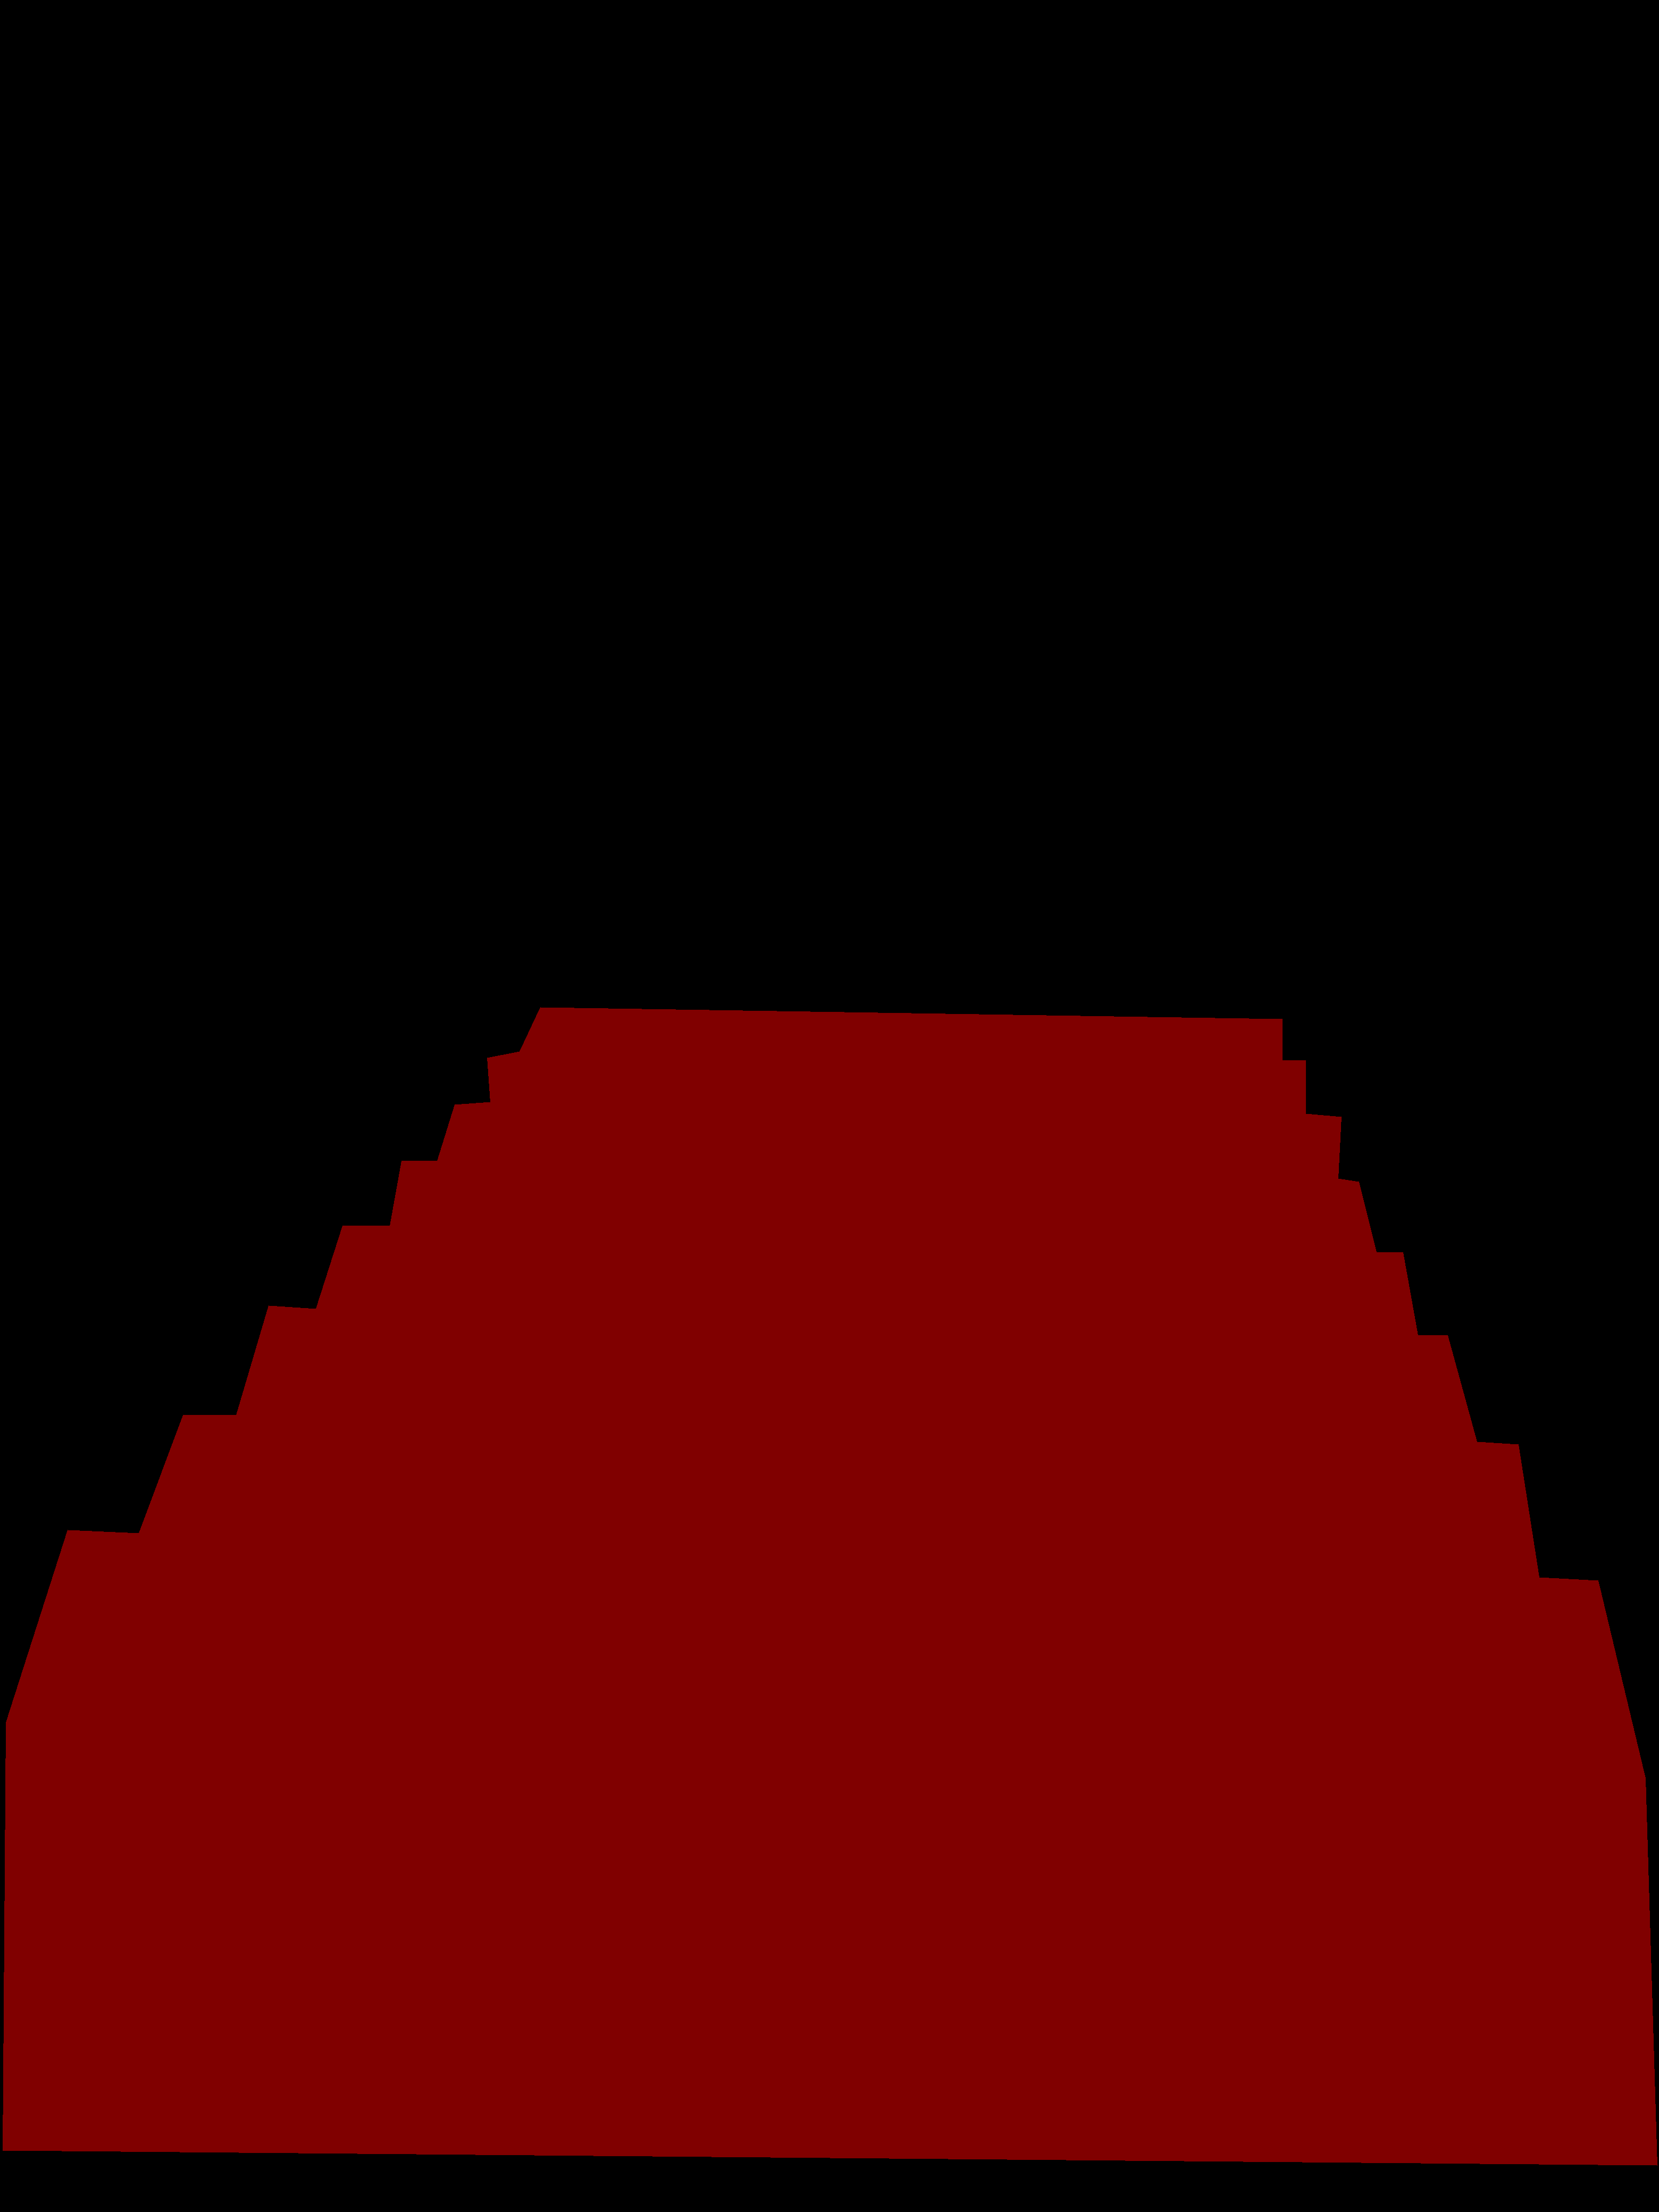stair: (3, 1007, 1657, 2165)
